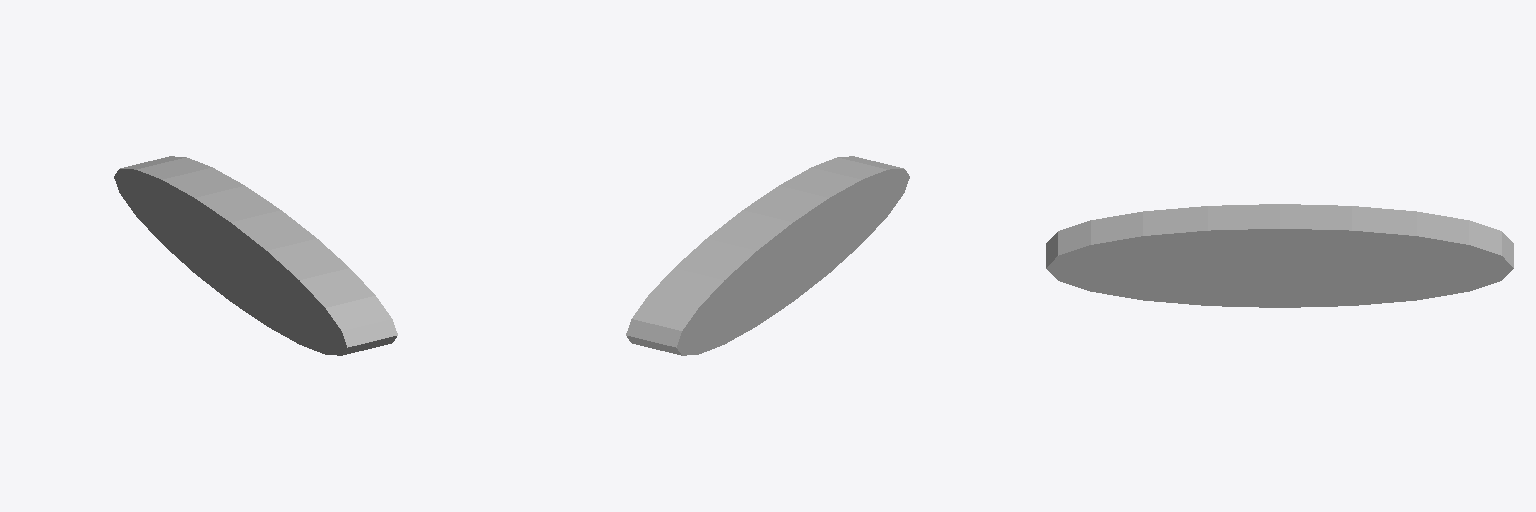
The model's file is track.obj.
3 renders of one model, left to right at view 1: azimuth 30°, elevation 25°; view 2: azimuth 150°, elevation 25°; view 3: azimuth 270°, elevation 25°, orthographic.
Visible parts, largest first — view 1: Object.1; view 2: Object.1; view 3: Object.1.
Boxes of the visible parts, <box> form: Object.1: <box>114,156,397,355</box>; Object.1: <box>626,156,909,355</box>; Object.1: <box>1046,204,1513,307</box>.
Size of the model in its own units: 1 by 1.5 by 8.